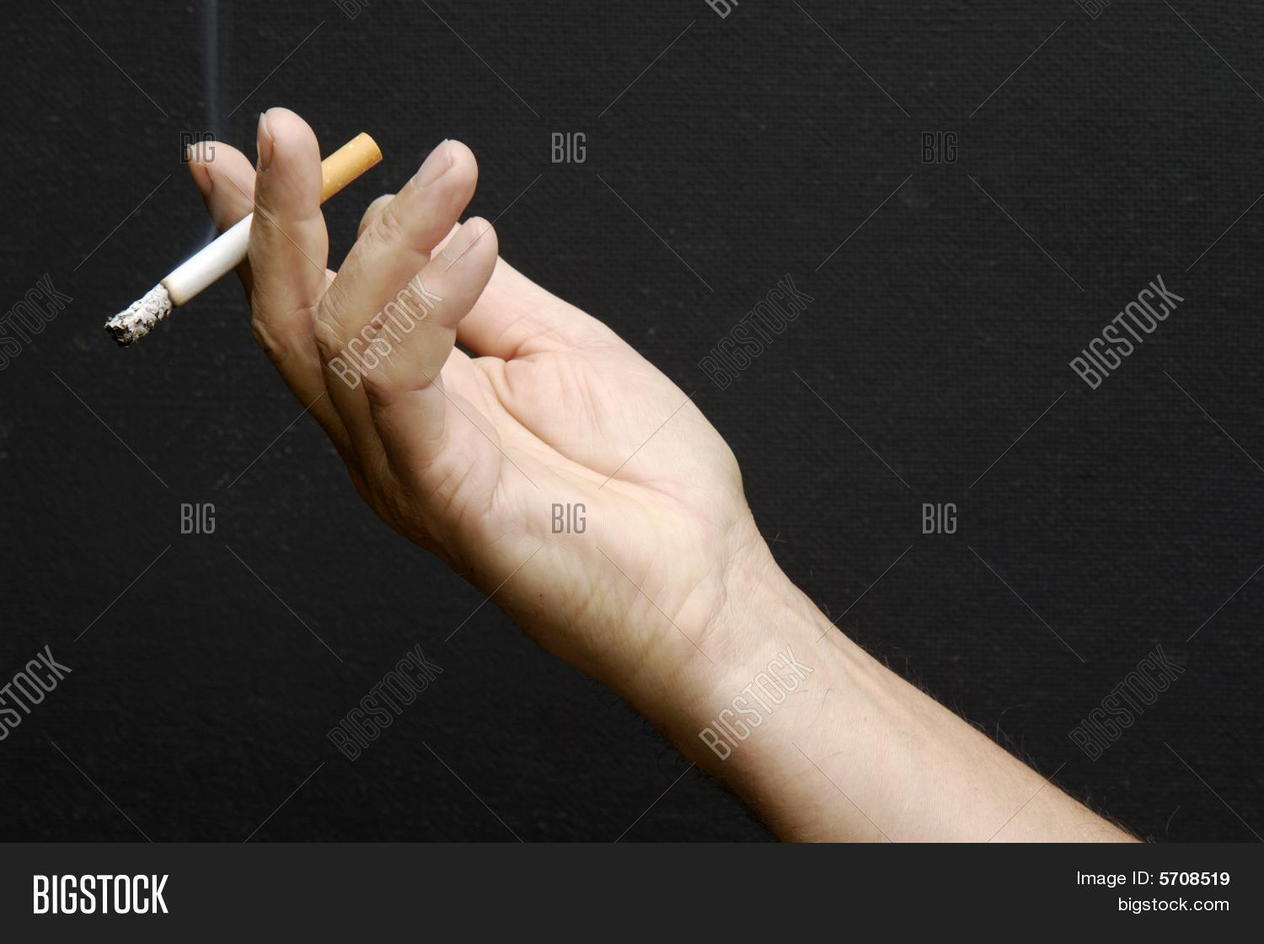cigarette: (104, 213, 252, 346)
